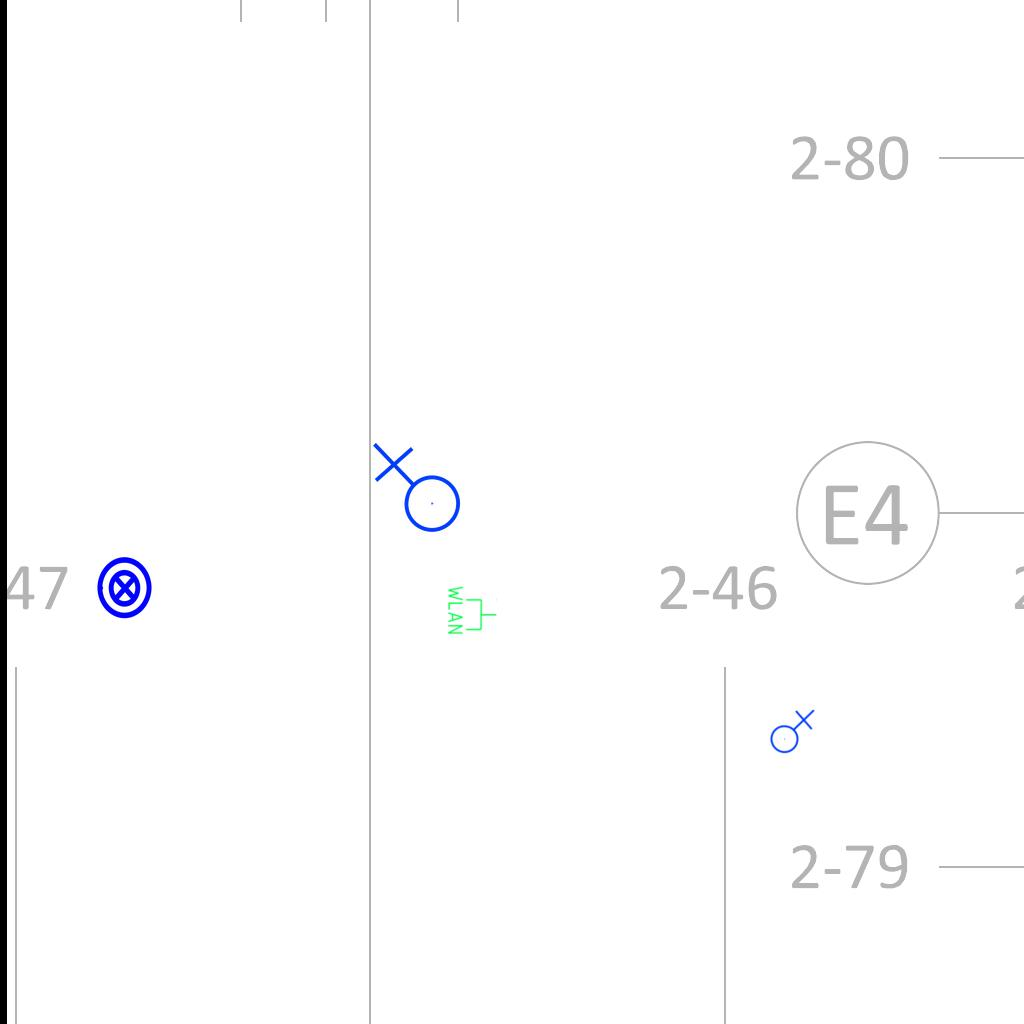Elektroanschluss_allgemein_230V_Geraeteanschlussdose_230V: (368, 442, 462, 541), (766, 707, 815, 754)
Taster_beleuchtet: (92, 555, 158, 621)
WLAN: (446, 584, 498, 636)
